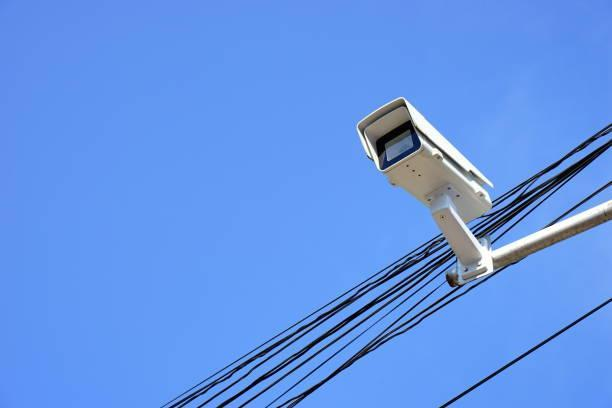camera: (338, 88, 507, 291)
